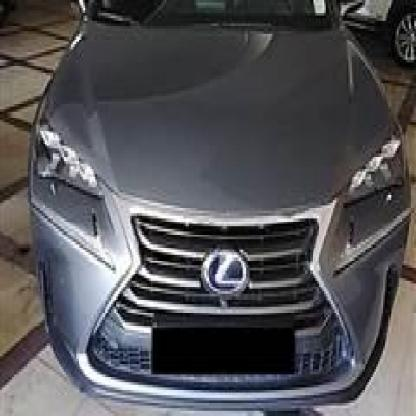Car: (4, 0, 412, 416), (340, 0, 416, 72)
